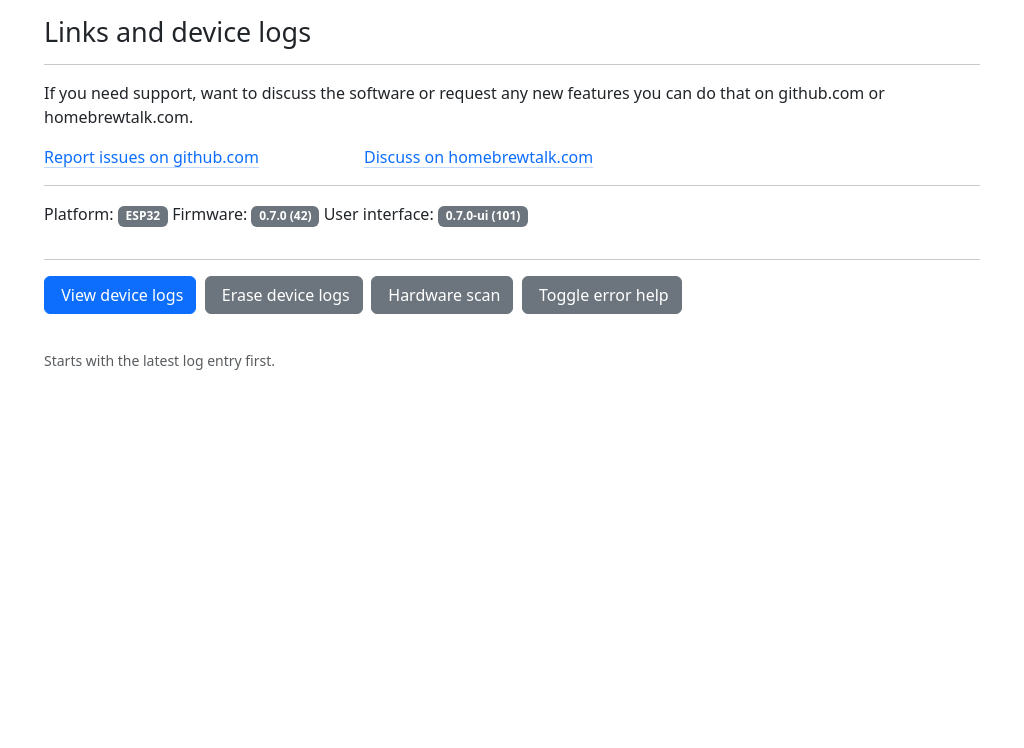
Test: SupportView › toggles the error help section from the button
Expected: the text "400 - Bad request" is not shown
Click the button "Toggle error help" at {"x": 602, "y": 294}, box [522,276,682,314]
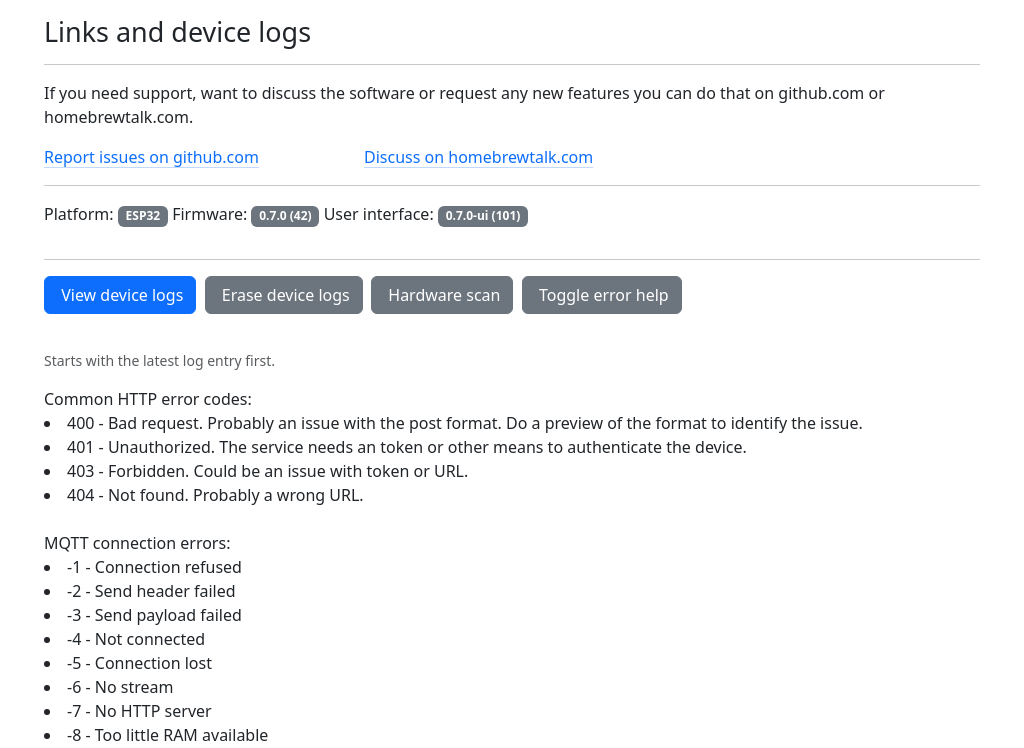
Now the text "400 - Bad request" is shown, box [67,412,863,434]
Click the button "Toggle error help" at {"x": 602, "y": 294}, box [522,276,682,314]
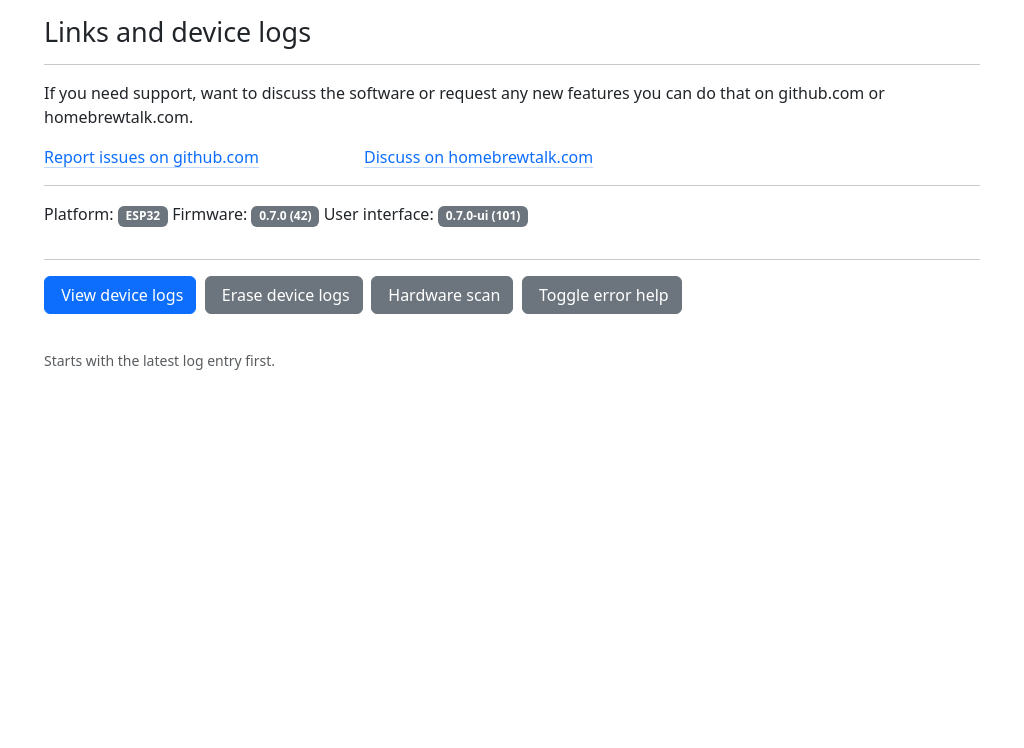
Now the text "400 - Bad request" is gone
